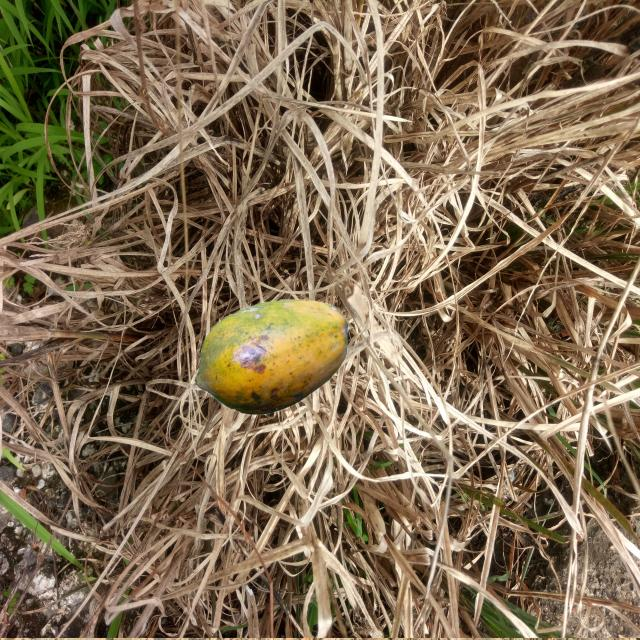Pepaya rippen: (195, 286, 355, 414)
